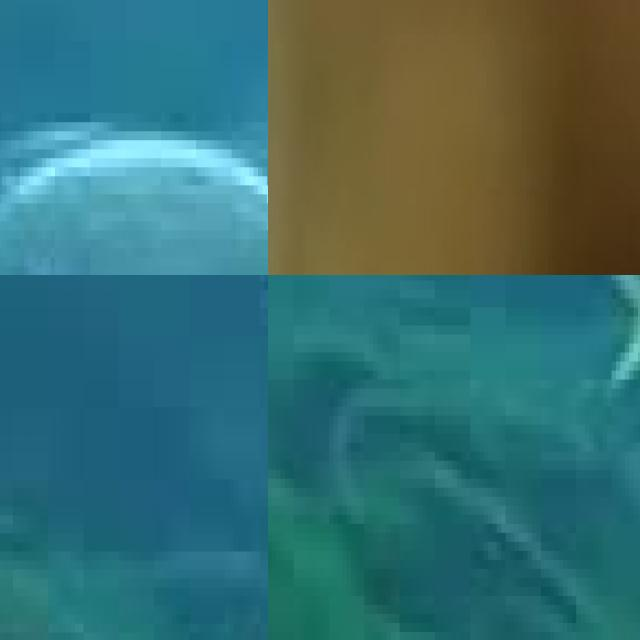fish: (0, 0, 268, 275), (469, 0, 640, 275)
